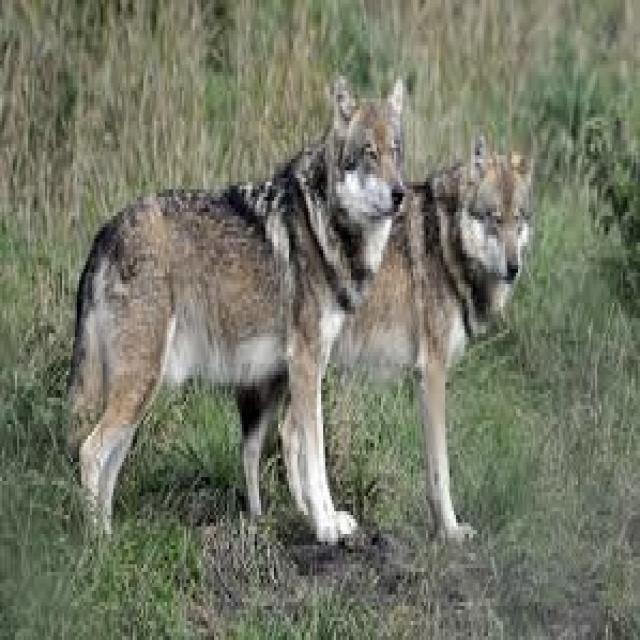wolf: (68, 80, 531, 542)
